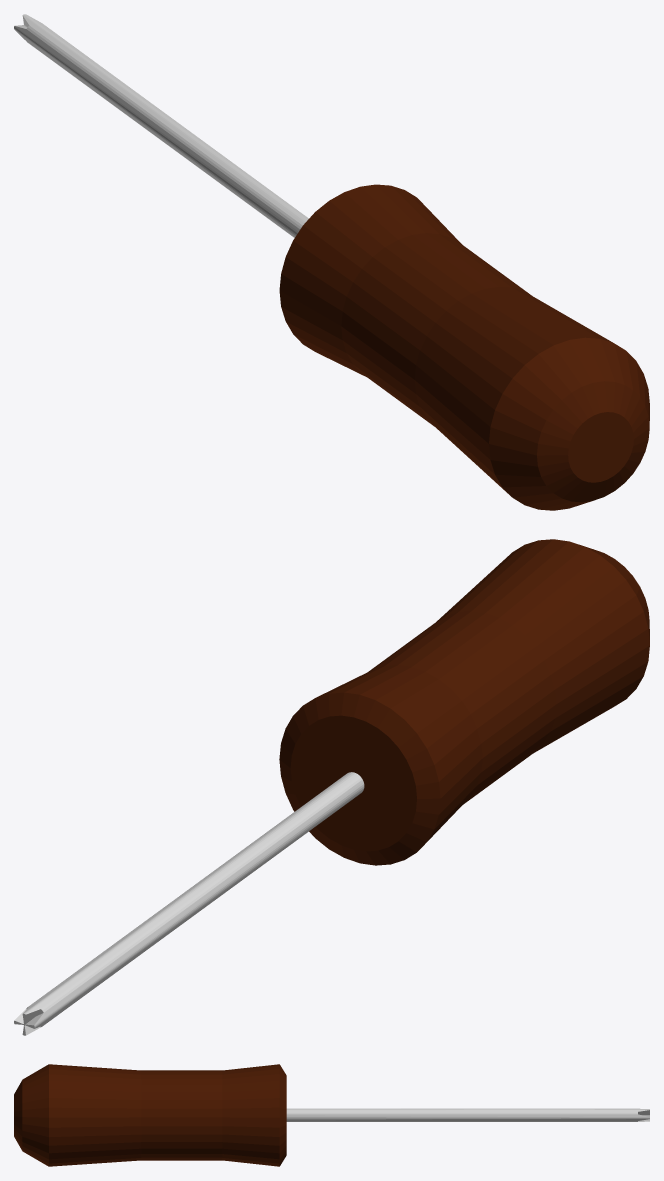
File: Screwdriver.glb
3 renders of one model, top to bottom at view 1: azimuth 30°, elevation 25°; view 2: azimuth 150°, elevation 25°; view 3: azimuth 270°, elevation 25°, orthographic. The views are drawn at different scales.
Parts seen in each view (by area): view 1: Screwdriver; view 2: Screwdriver; view 3: Screwdriver.
Boxes of the visible parts, box(x1,y1,x2,y2) form: Screwdriver: box(14, 14, 649, 510); Screwdriver: box(14, 539, 649, 1035); Screwdriver: box(14, 1064, 649, 1166).
Bounding box in the file's own units: 0.9209 × 0.9209 × 5.71.
